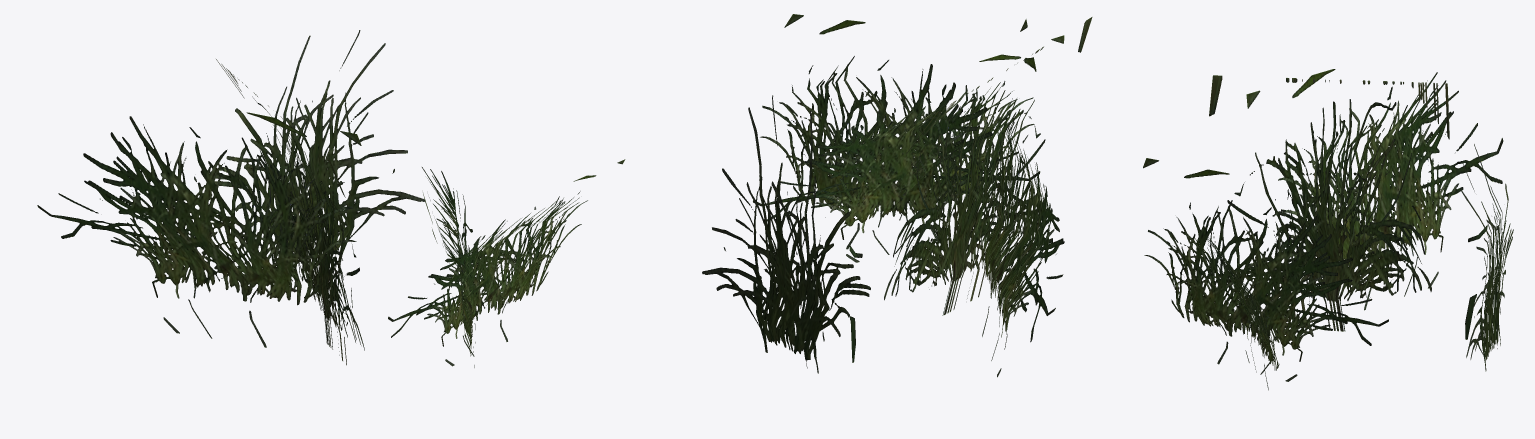
The model's file is forest_grass_001_b_LOD2.gltf.
3 renders of one model, left to right at view 1: azimuth 30°, elevation 25°; view 2: azimuth 150°, elevation 25°; view 3: azimuth 270°, elevation 25°, orthographic. The views are drawn at different scales.
Visible parts, largest first — view 1: forest_grass_001_b_LOD2; view 2: forest_grass_001_b_LOD2; view 3: forest_grass_001_b_LOD2.
Part boxes in pixels (x1,y1,x2,y2): forest_grass_001_b_LOD2: [37, 30, 625, 367]; forest_grass_001_b_LOD2: [702, 14, 1092, 377]; forest_grass_001_b_LOD2: [1143, 69, 1513, 390].
Bounding box in the file's own units: 1.29 × 0.6866 × 1.1.
1 material, 1 textured.
